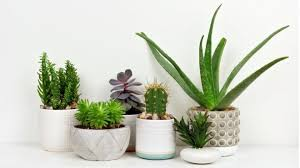plant: (147, 2, 295, 125), (34, 49, 83, 133), (72, 98, 129, 156), (106, 68, 151, 126), (173, 112, 227, 160), (137, 82, 176, 141)
